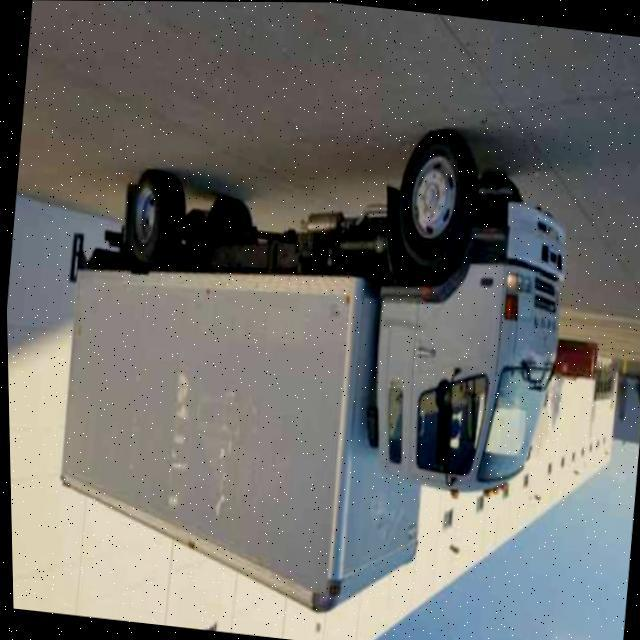truck: (31, 99, 584, 632)
